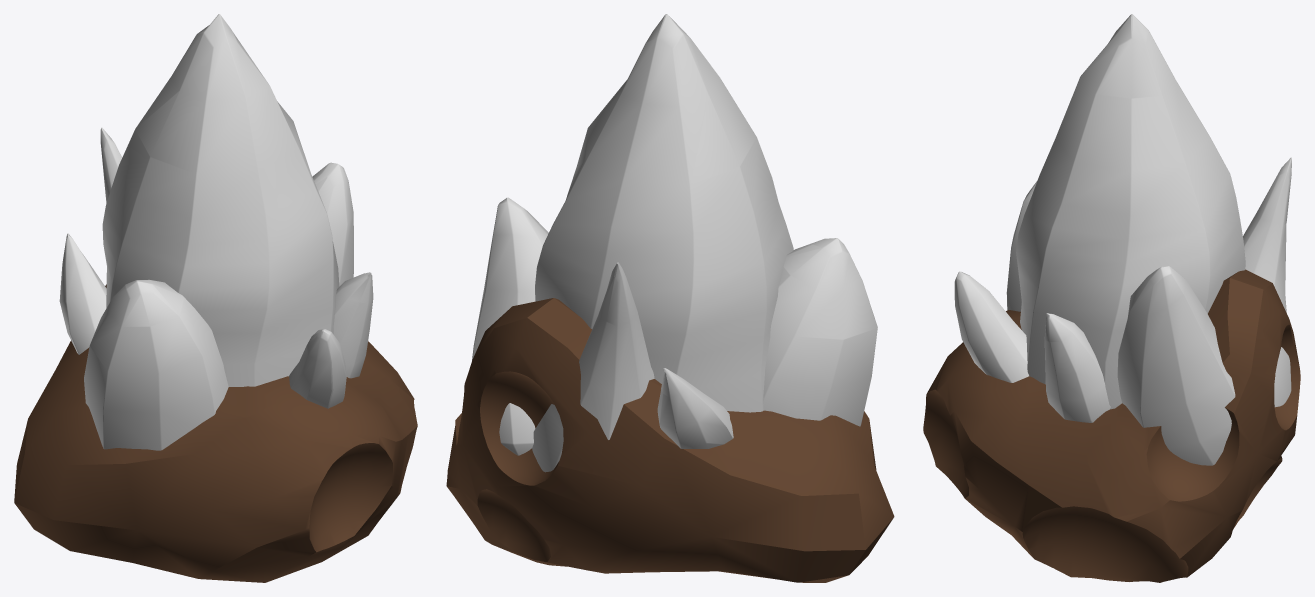
File: Special resource.fbx
3 renders of one model, left to right at view 1: azimuth 30°, elevation 25°; view 2: azimuth 150°, elevation 25°; view 3: azimuth 270°, elevation 25°, orthographic. The views are drawn at different scales.
Parts seen in each view (by area): view 1: Cube, rock.006; view 2: Cube, rock.006; view 3: Cube, rock.006.
Part boxes in pixels (box(x1,y1,x2,y2)): Cube: box(59, 14, 373, 450); rock.006: box(14, 284, 417, 582); Cube: box(472, 14, 877, 472); rock.006: box(446, 298, 894, 582); Cube: box(954, 14, 1291, 465); rock.006: box(923, 269, 1300, 582).
Bounding box in the file's own units: 302 × 404 × 263.
